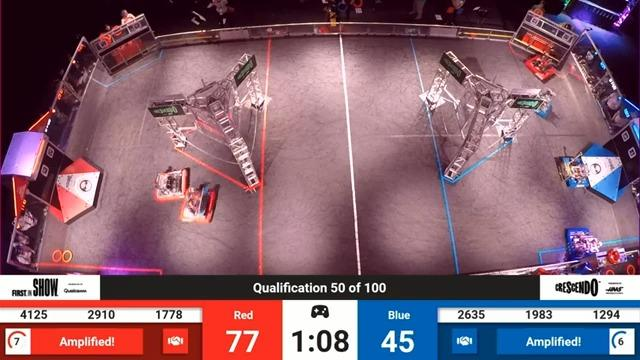robot: (173, 188, 232, 226), (557, 147, 597, 193), (148, 165, 199, 201), (561, 219, 601, 259), (524, 42, 554, 86), (530, 84, 557, 120)
